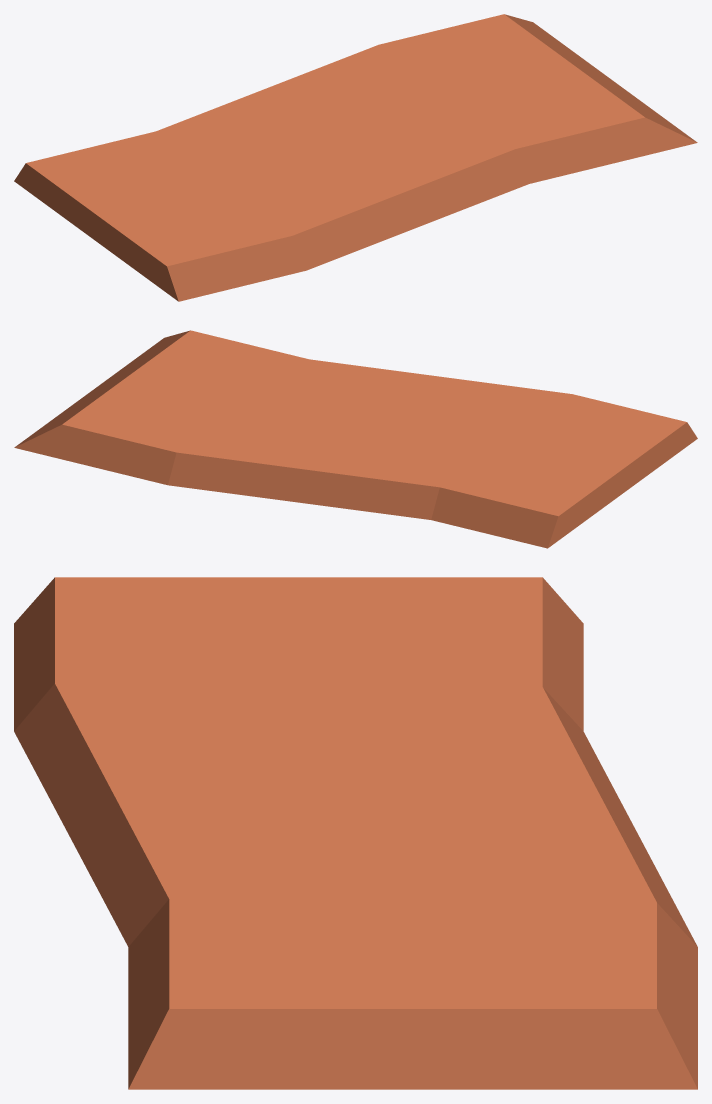
File: path_end.fbx
3 renders of one model, top to bottom at view 1: azimuth 30°, elevation 25°; view 2: azimuth 150°, elevation 25°; view 3: azimuth 270°, elevation 25°, orthographic. The views are drawn at different scales.
Visible parts, largest first — view 1: path_end; view 2: path_end; view 3: path_end.
Part boxes in pixels (x1,y1,x2,y2): path_end: (14,14,697,301); path_end: (14,330,697,548); path_end: (14,577,697,1089).
Size of the model in its own units: 5.4 by 0.25 by 3.35.
